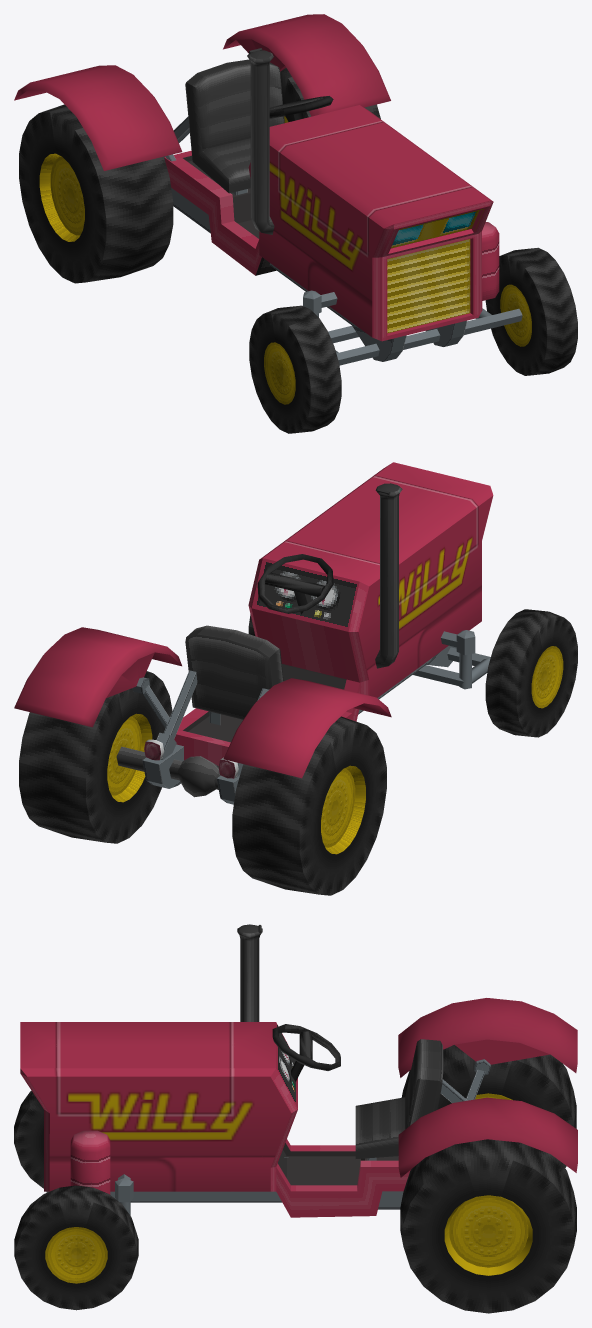
File: Tractor.obj
The picture shows the model from 3 angles, top to bottom: view 1: azimuth 30°, elevation 25°; view 2: azimuth 150°, elevation 25°; view 3: azimuth 270°, elevation 25°; orthographic projection. The views are drawn at different scales.
Visible parts, largest first — view 1: Tractor; view 2: Tractor; view 3: Tractor.
Boxes of the visible parts, box(x1,y1,x2,y2) form: Tractor: box(14, 14, 577, 433); Tractor: box(14, 462, 577, 895); Tractor: box(14, 924, 577, 1313).
Size of the model in its own units: 1.94 by 1.93 by 3.37.
Materials: 8 (8 with a texture image).
